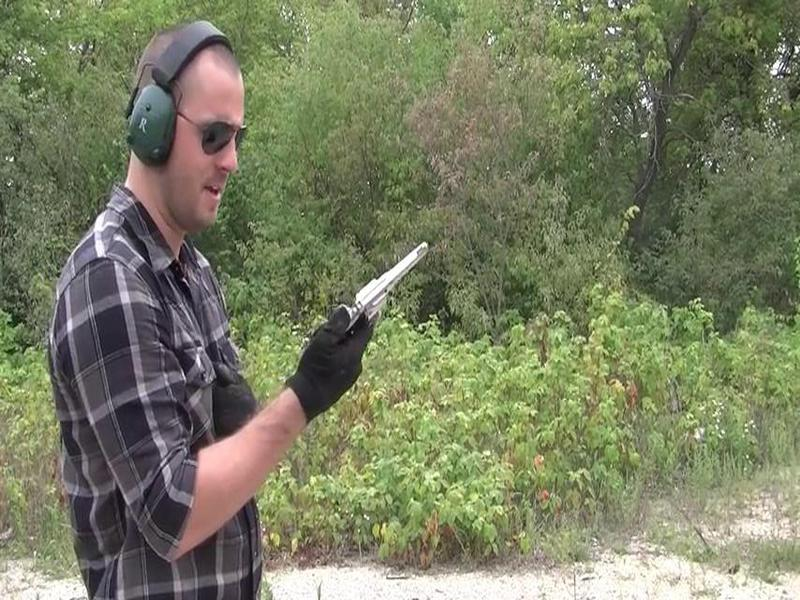Revolver: (331, 234, 439, 344)
